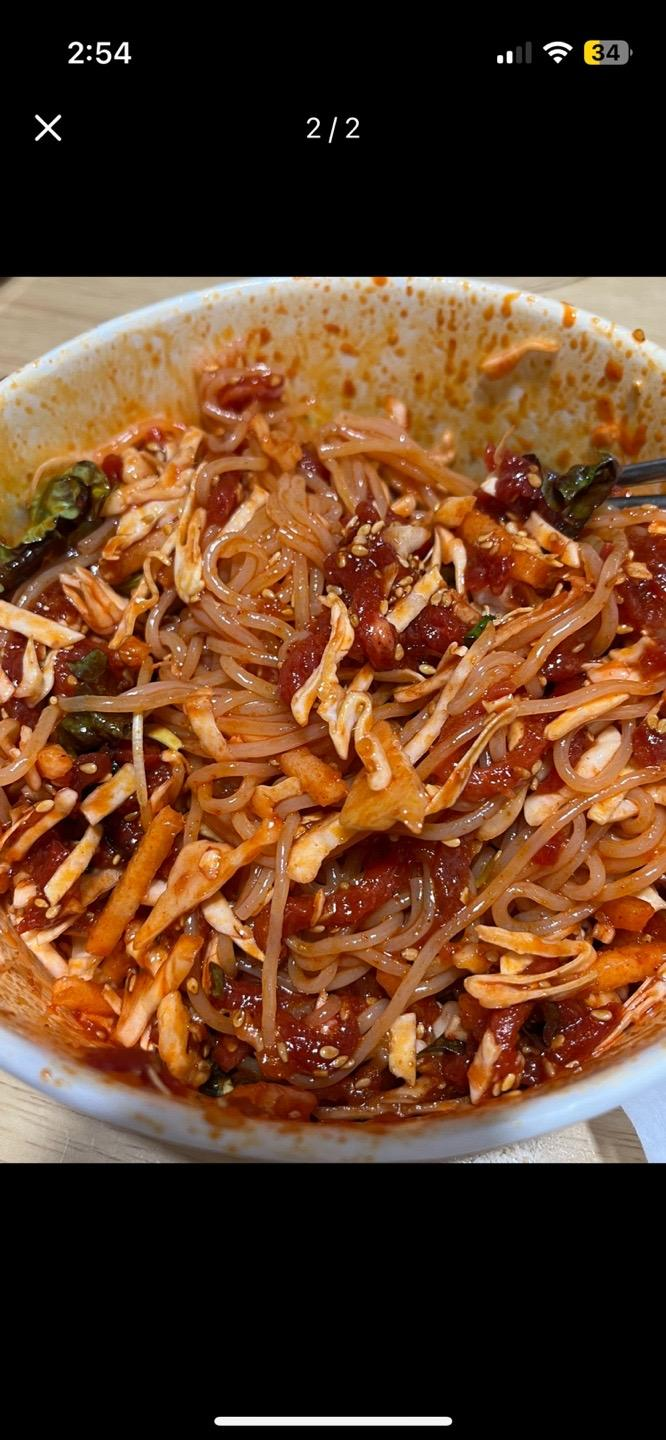Lunch Box: (0, 277, 665, 1163)
